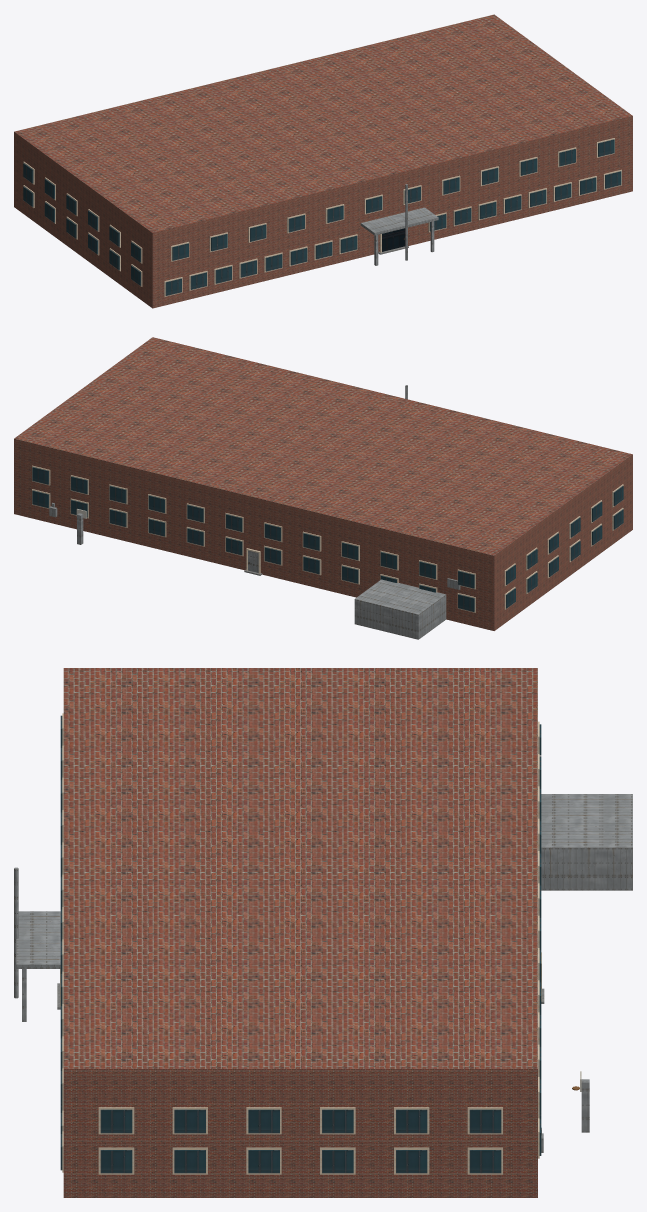
The model's file is elementary-school_lod0.gltf.
3 views of the same model, one above another, from view 1: azimuth 30°, elevation 25°; view 2: azimuth 150°, elevation 25°; view 3: azimuth 270°, elevation 25° (orthographic). The views are drawn at different scales.
Visible parts, largest first — view 1: elementary-school_main, elementary-school_fen_07-glass-curtain-blue_4, elementary-school_fen_04-limestone_0, elementary-school__entry_canopy, elementary-school_fen_07-glass-curtain-blue_1_t; view 2: elementary-school_main, elementary-school_fen_07-glass-curtain-blue_4, elementary-school__playground, elementary-school_fen_04-limestone_0, elementary-school_fen_14-steel-panel_5; view 3: elementary-school_main, elementary-school_fen_07-glass-curtain-blue_4, elementary-school__playground, elementary-school_fen_04-limestone_0, elementary-school__entry_canopy.
Boxes of the visible parts, <box> form: elementary-school_main: <box>14,14,632,308</box>; elementary-school_fen_07-glass-curtain-blue_4: <box>23,139,621,295</box>; elementary-school_fen_04-limestone_0: <box>23,138,621,296</box>; elementary-school__entry_canopy: <box>360,207,438,235</box>; elementary-school_fen_07-glass-curtain-blue_1_t: <box>382,228,405,251</box>; elementary-school_main: <box>14,337,632,630</box>; elementary-school_fen_07-glass-curtain-blue_4: <box>32,467,623,611</box>; elementary-school__playground: <box>354,579,446,639</box>; elementary-school_fen_04-limestone_0: <box>32,465,623,612</box>; elementary-school_fen_14-steel-panel_5: <box>49,502,460,589</box>; elementary-school_main: <box>63,668,537,1197</box>; elementary-school_fen_07-glass-curtain-blue_4: <box>60,715,541,1173</box>; elementary-school__playground: <box>541,794,632,890</box>; elementary-school_fen_04-limestone_0: <box>60,713,541,1174</box>; elementary-school__entry_canopy: <box>16,911,60,968</box>.
Size of the model in its own units: 60.4 by 9 by 39.15.
